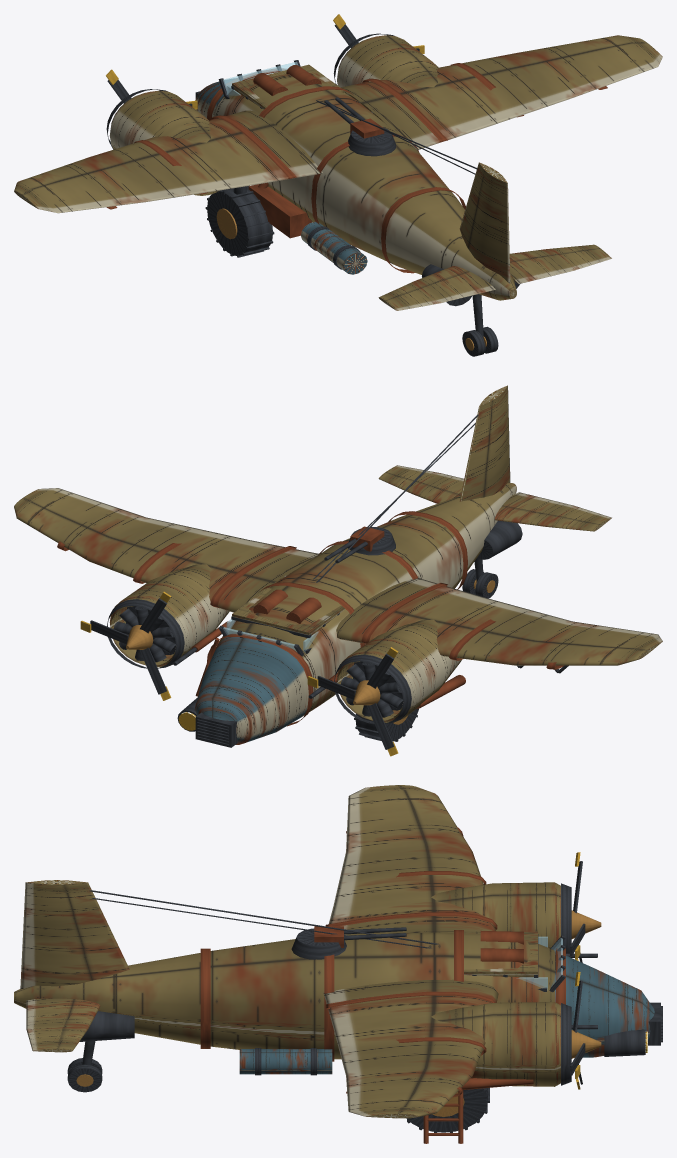
The model's file is scrapyard_plane.glb.
3 views of the same model, one above another, from view 1: azimuth 30°, elevation 25°; view 2: azimuth 150°, elevation 25°; view 3: azimuth 270°, elevation 25° (orthographic). The views are drawn at different scales.
Parts seen in each view (by area): view 1: airframe, gear_L, gear_tail, cockpit_glass; view 2: airframe, propeller_L, propeller_R, gear_L, gear_tail; view 3: airframe, gear_R, gear_tail, propeller_R, propeller_L, cockpit_glass.
Part boxes in pixels (x1,y1,x2,y2): airframe: [14, 33, 662, 310]; gear_L: [205, 182, 274, 257]; gear_tail: [462, 294, 498, 356]; cockpit_glass: [223, 62, 297, 96]; airframe: [14, 385, 662, 747]; propeller_L: [307, 647, 398, 756]; propeller_R: [80, 591, 171, 700]; gear_L: [354, 709, 418, 741]; gear_tail: [462, 558, 498, 598]; airframe: [14, 785, 662, 1118]; gear_R: [406, 1087, 489, 1143]; gear_tail: [67, 1041, 102, 1092]; propeller_R: [570, 972, 601, 1089]; propeller_L: [570, 852, 601, 962]; cockpit_glass: [517, 936, 562, 990].
Size of the model in its own units: 14.73 by 4.3 by 12.29.
3 materials, 1 textured.
